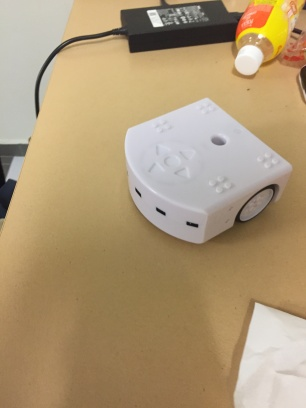thymio: (117, 91, 295, 250)
